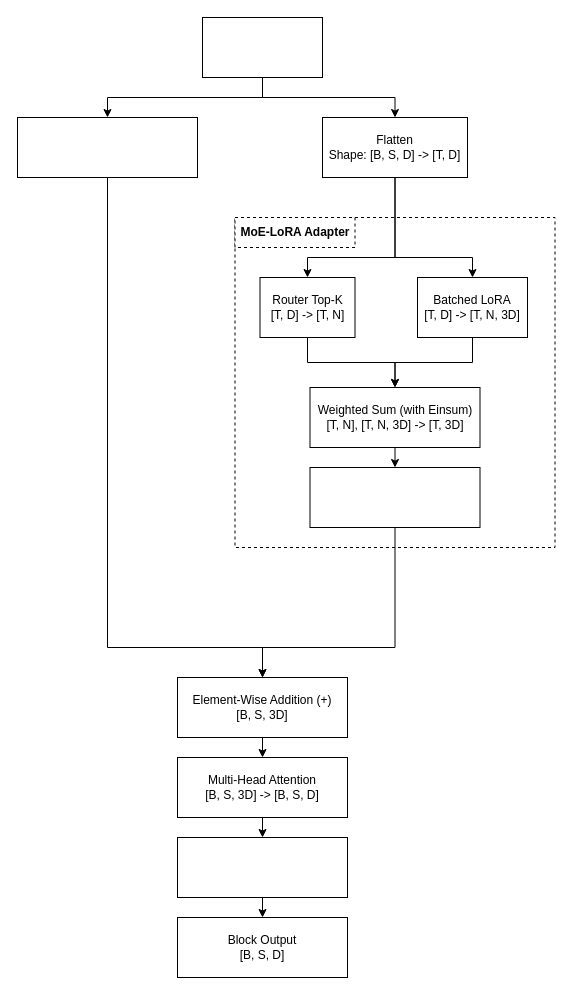
The diagram is 573 pixels wide and 995 high, and some of its shapes have lost their labels. Each missing label, with the box of its shape:
Frozen Base QKV layer [B, S, D] -> [B, S, 3D]: (16, 116, 198, 178)
Input Tokens (x) [B, S, D]: (202, 16, 322, 78)
Output projection (Frozen) [B, S, D] -> [B, S, D]: (176, 836, 348, 898)
Reshape [T, 3D] -> [B, S, 3D]: (309, 466, 480, 528)
